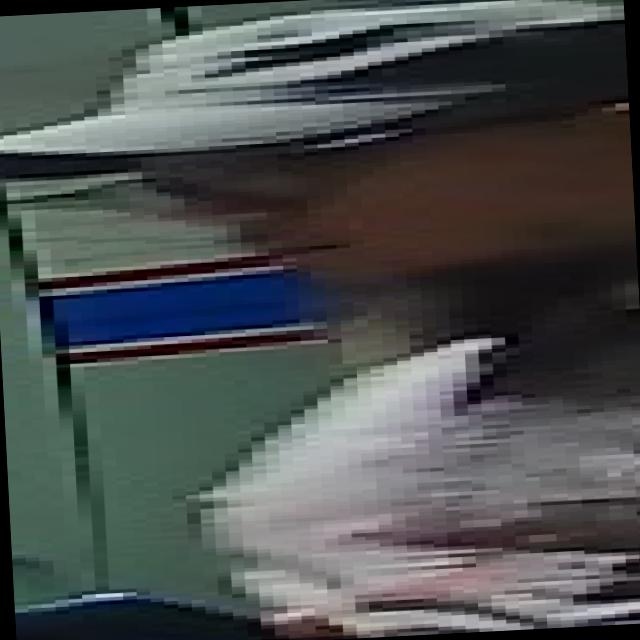no_helmet: (2, 0, 640, 385)
